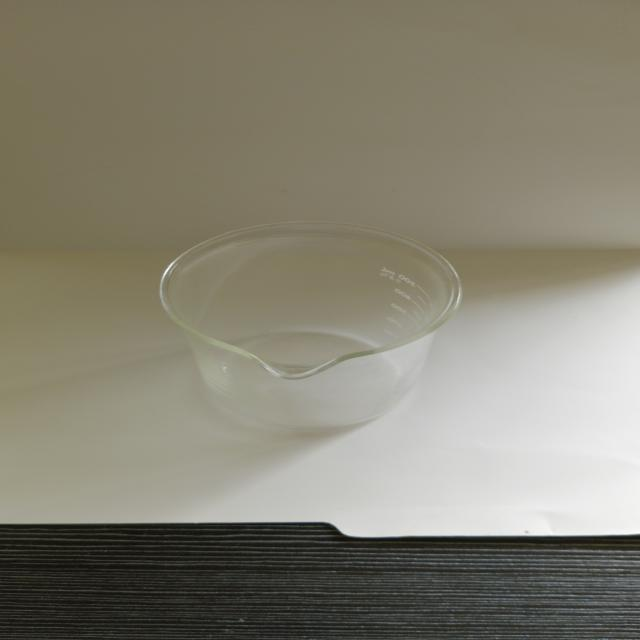beaker: (152, 215, 470, 434)
